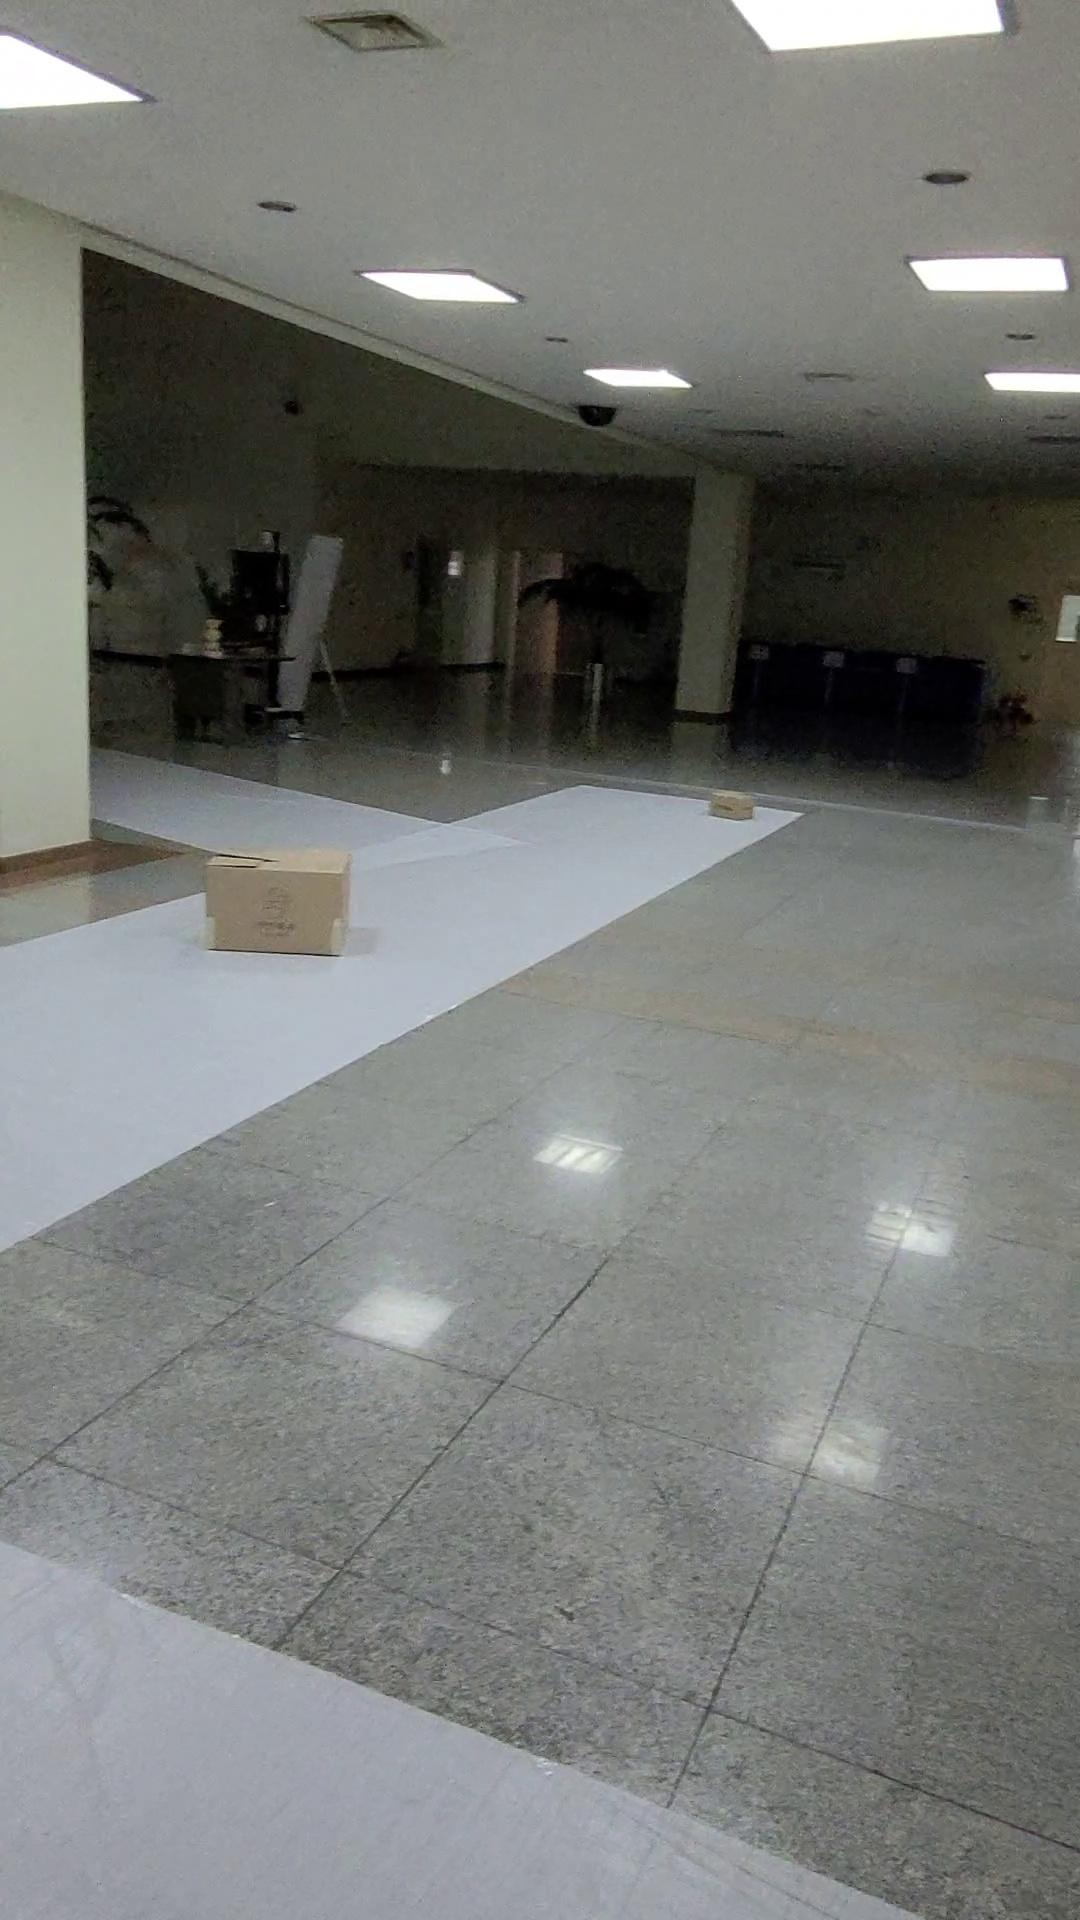Box: (161, 833, 375, 985), (688, 781, 785, 852)
